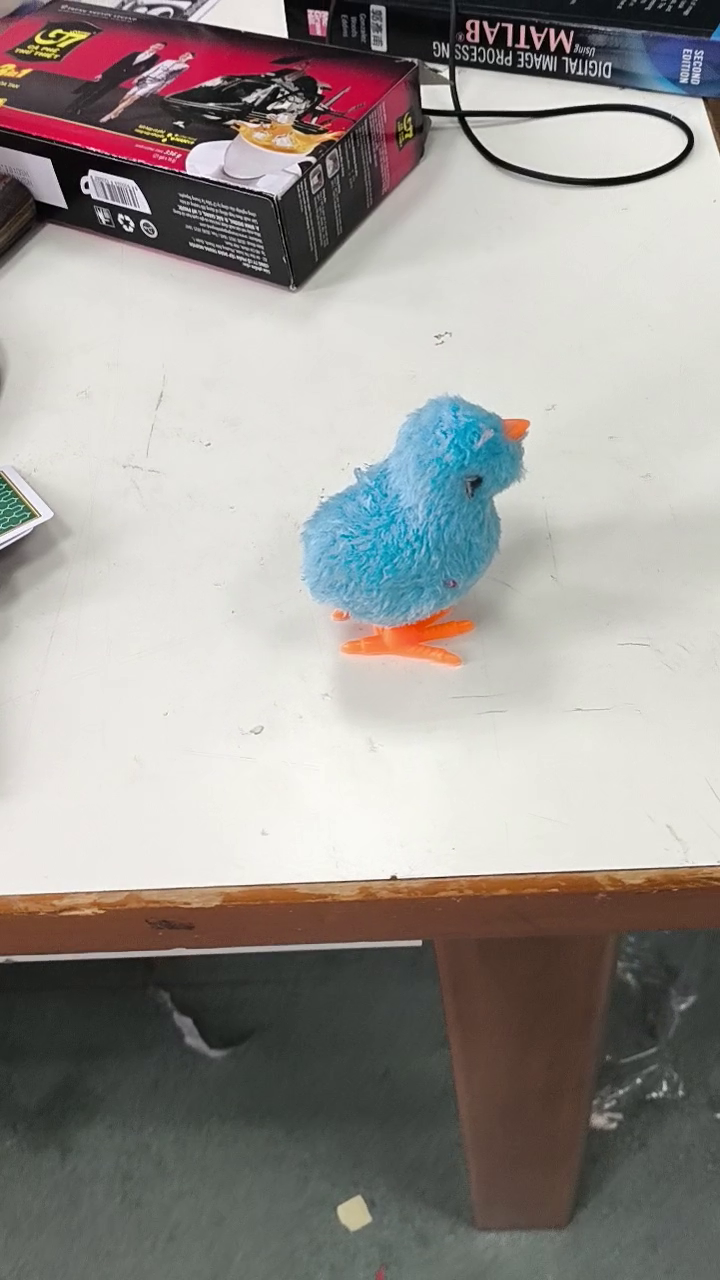blue chicken: (296, 392, 535, 673)
